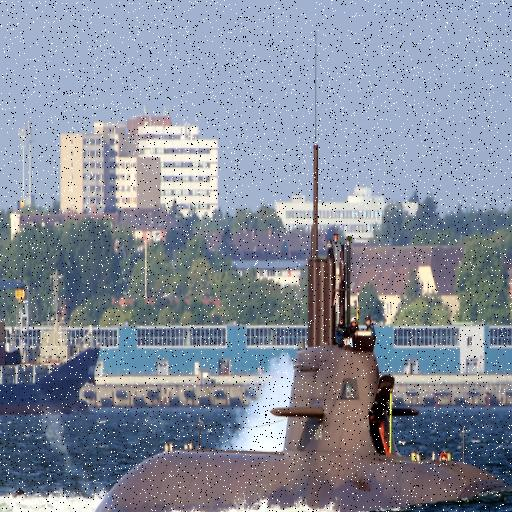submarine: (94, 5, 512, 512)
